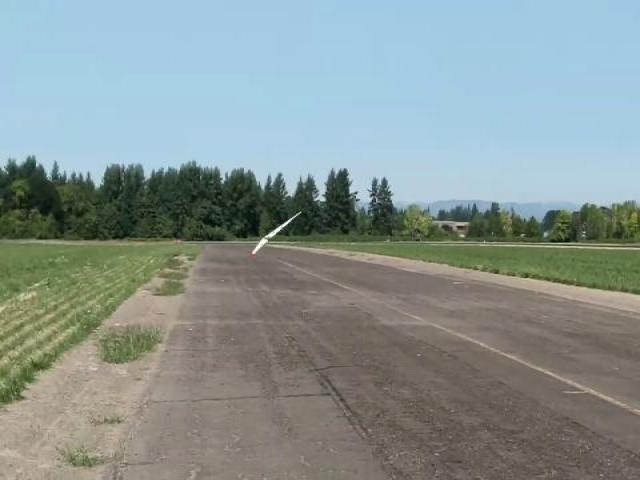flying wing: (250, 208, 305, 260)
